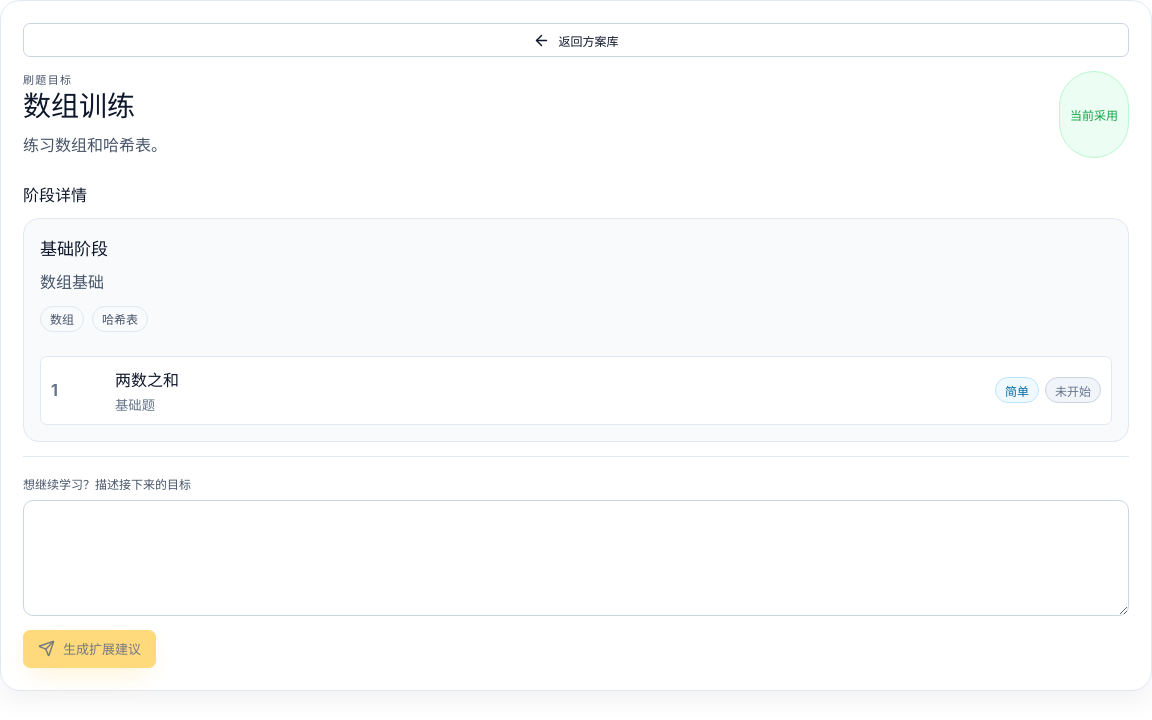
Scenario: LearningPlanDetail extension orchestration › shows the extension failure and safe reason in a dialog
Type "继续练图论" into the text box labelled "想继续学习？描述接下来的目标" at (576, 558), box x1=23 y1=500 x2=1129 y2=616
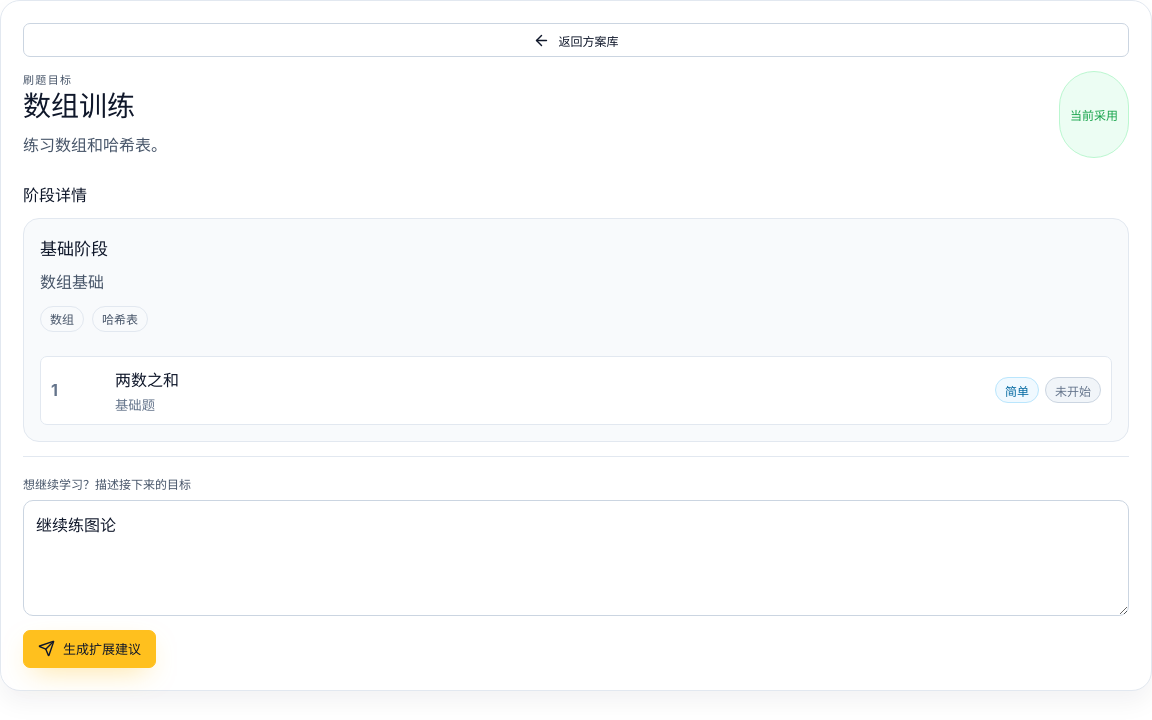
Click the button "生成扩展建议" at (90, 649), box x1=23 y1=630 x2=156 y2=668
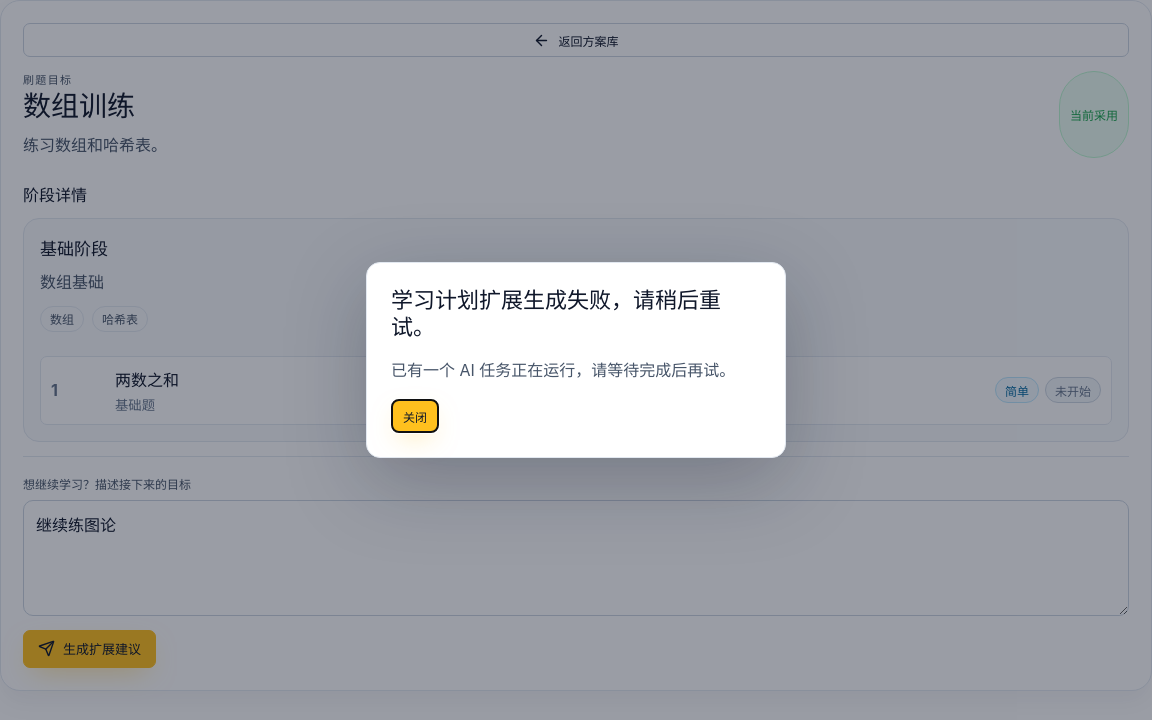
Expected: the dialog "学习计划扩展生成失败，请稍后重试。" shows "已有一个 AI 任务正在运行，请等待完成后再试。", x1=391 y1=360 x2=735 y2=380
